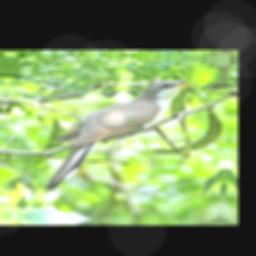Cuckoo: (44, 75, 197, 196)
